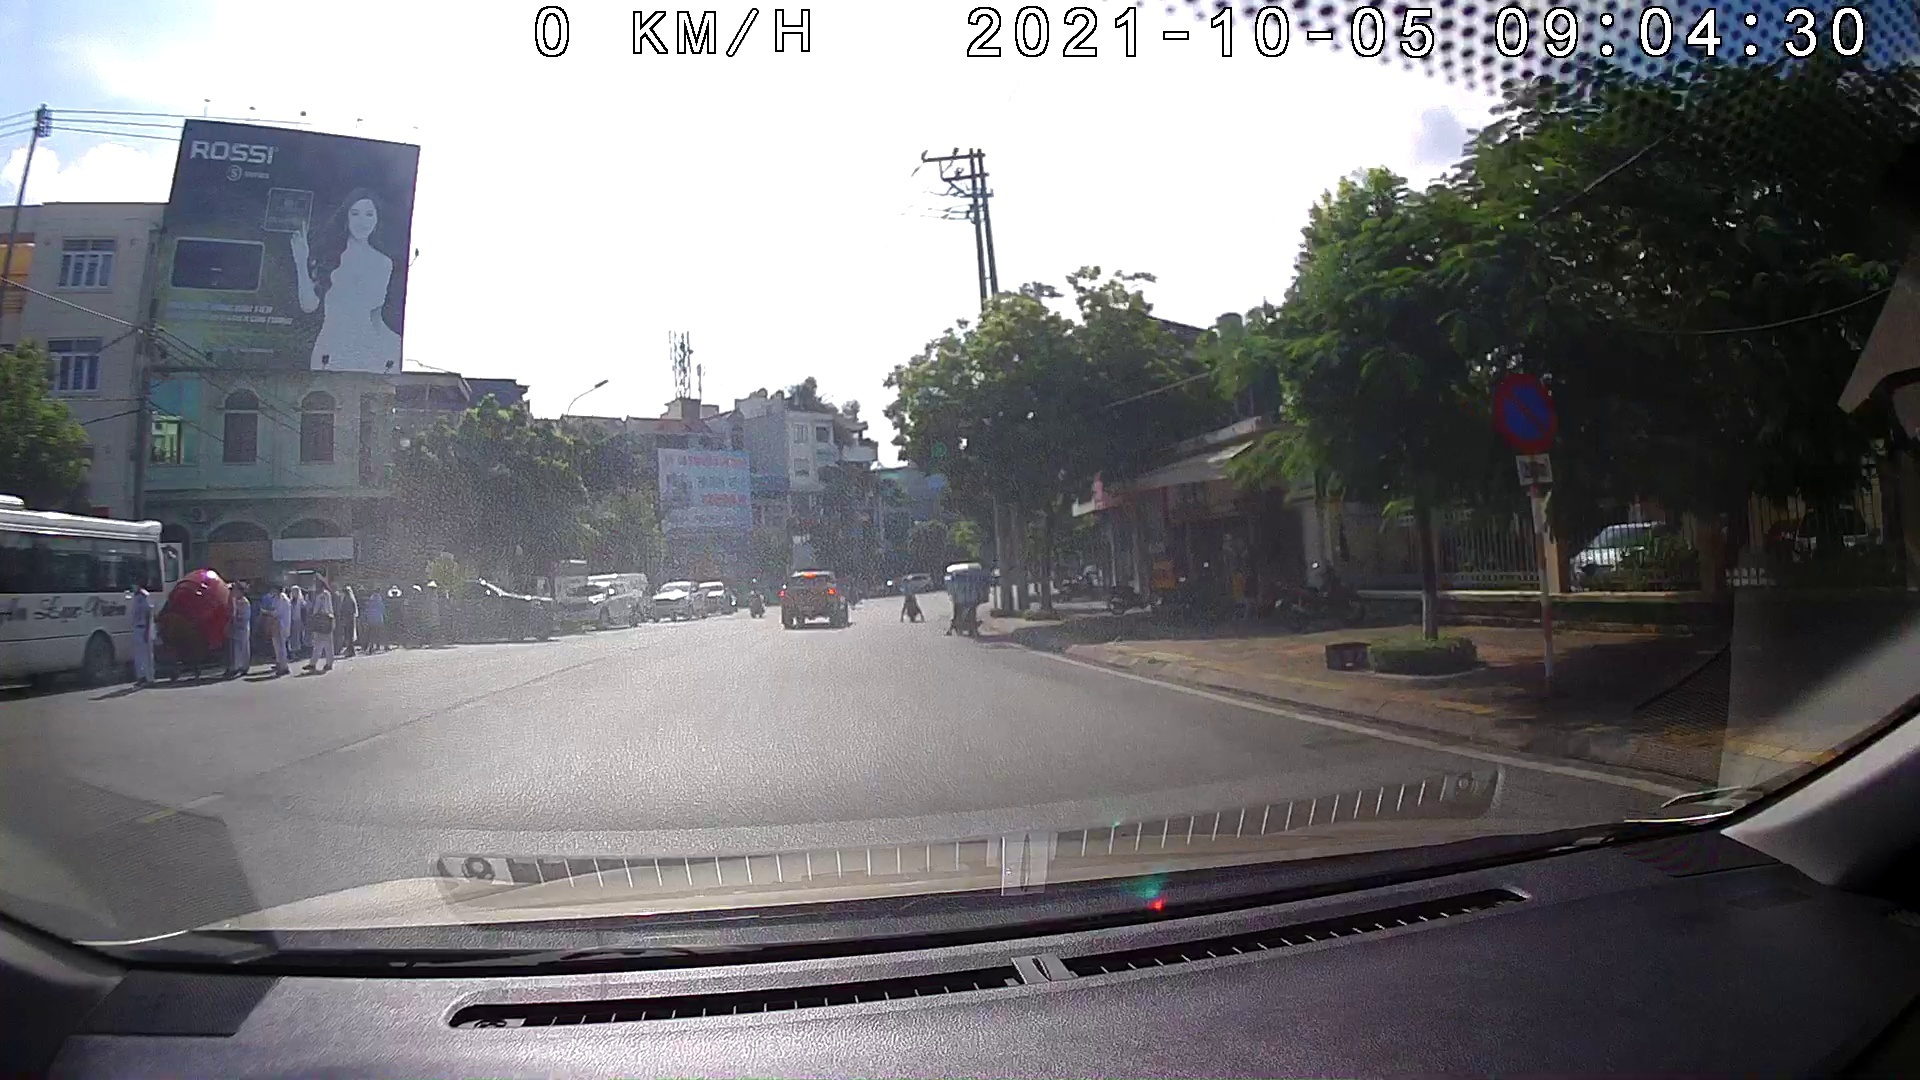Cam do xe: (1491, 371, 1560, 455)
